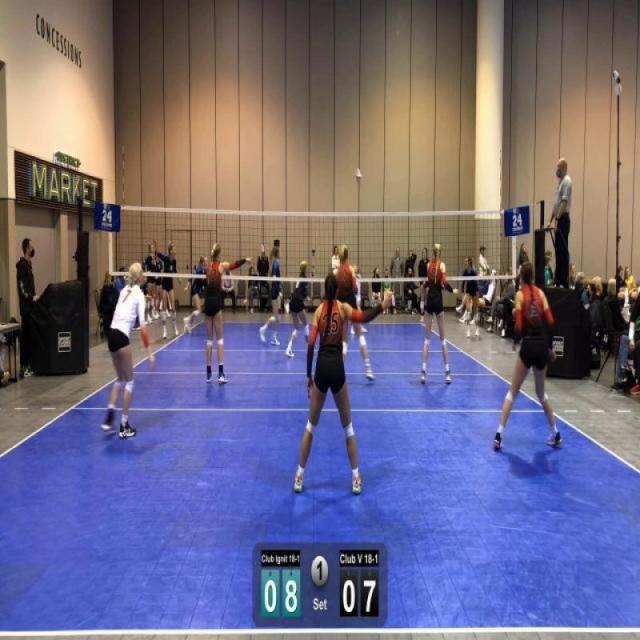volleyball: (353, 167, 363, 185)
